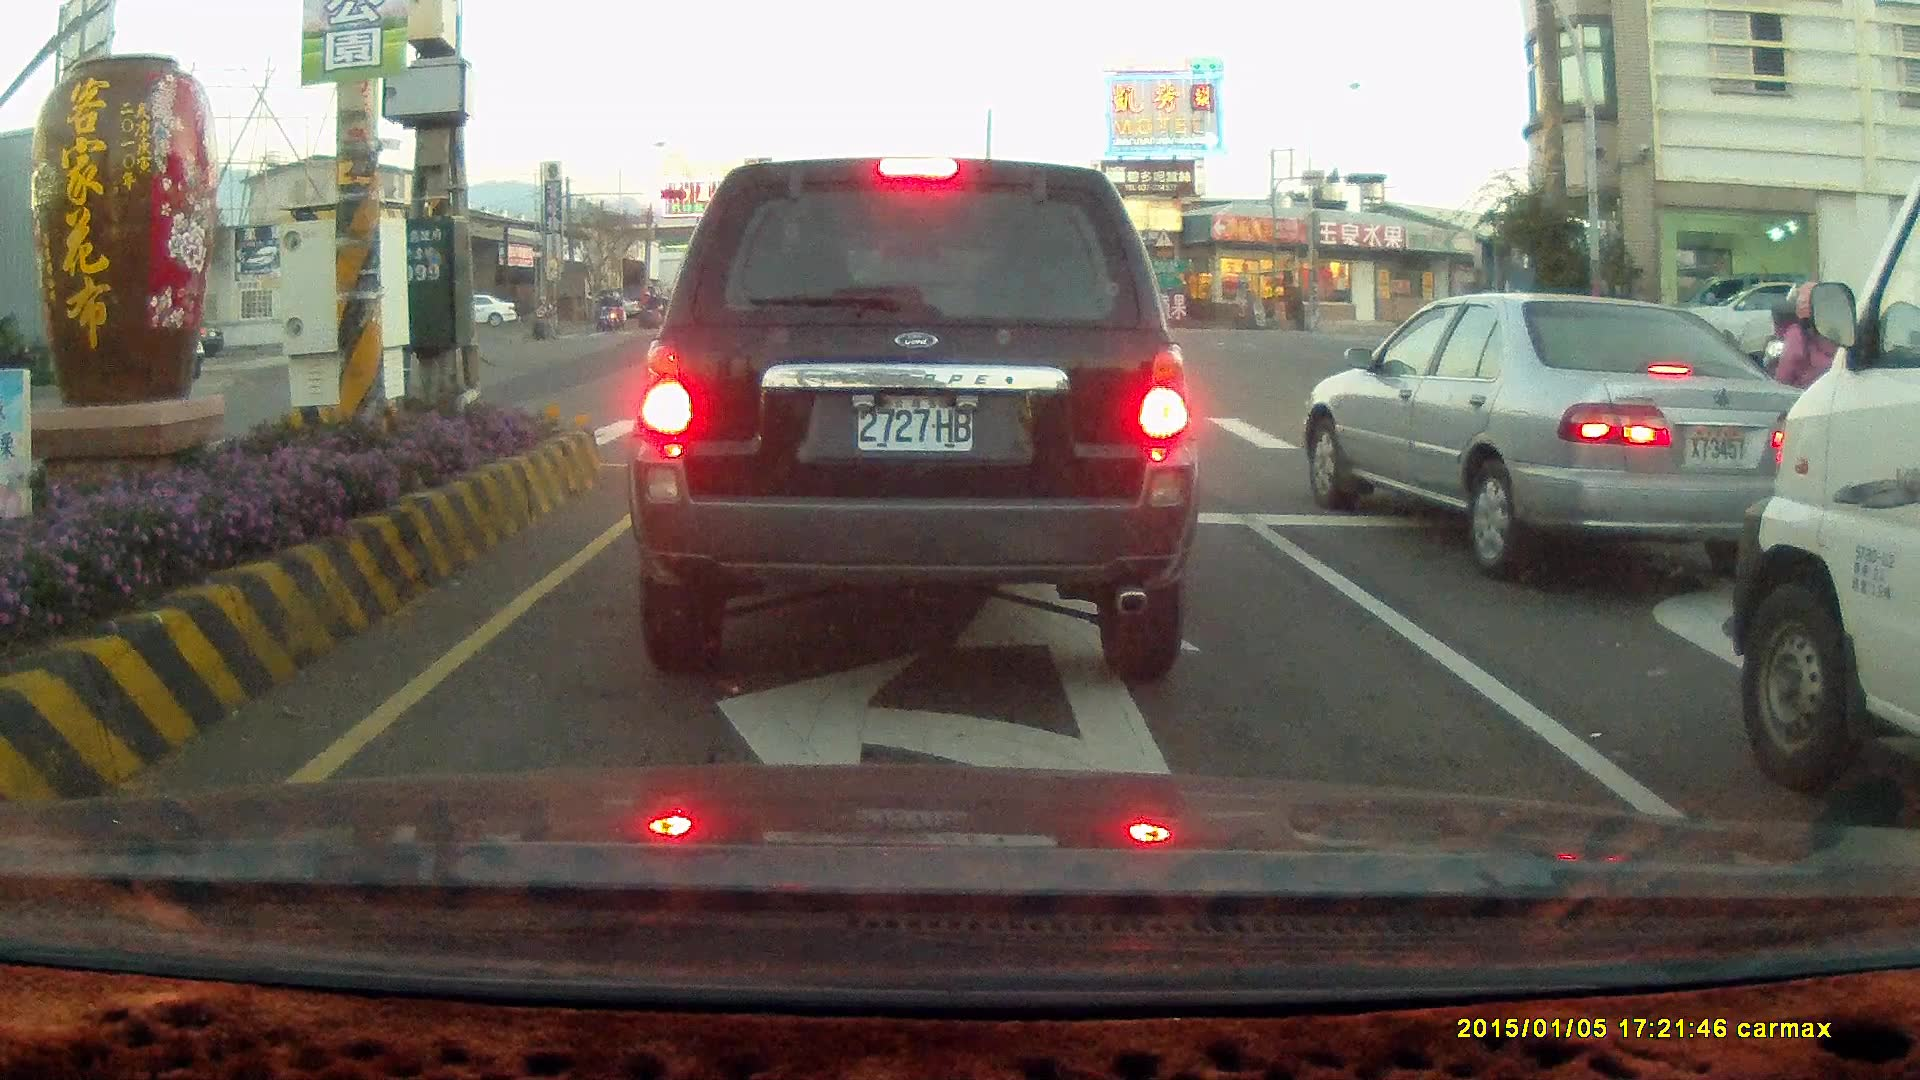rider: (1709, 275, 1920, 526), (527, 289, 560, 338), (592, 290, 613, 331), (642, 289, 663, 326), (604, 293, 625, 329)
vehicle: (626, 154, 1199, 684), (1299, 290, 1826, 583), (1312, 291, 1835, 576), (1730, 164, 1920, 797), (1651, 274, 1856, 372), (1668, 275, 1823, 373)
